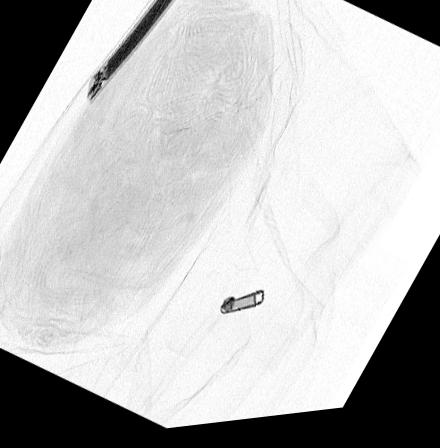Powerbank: (83, 0, 179, 107)
